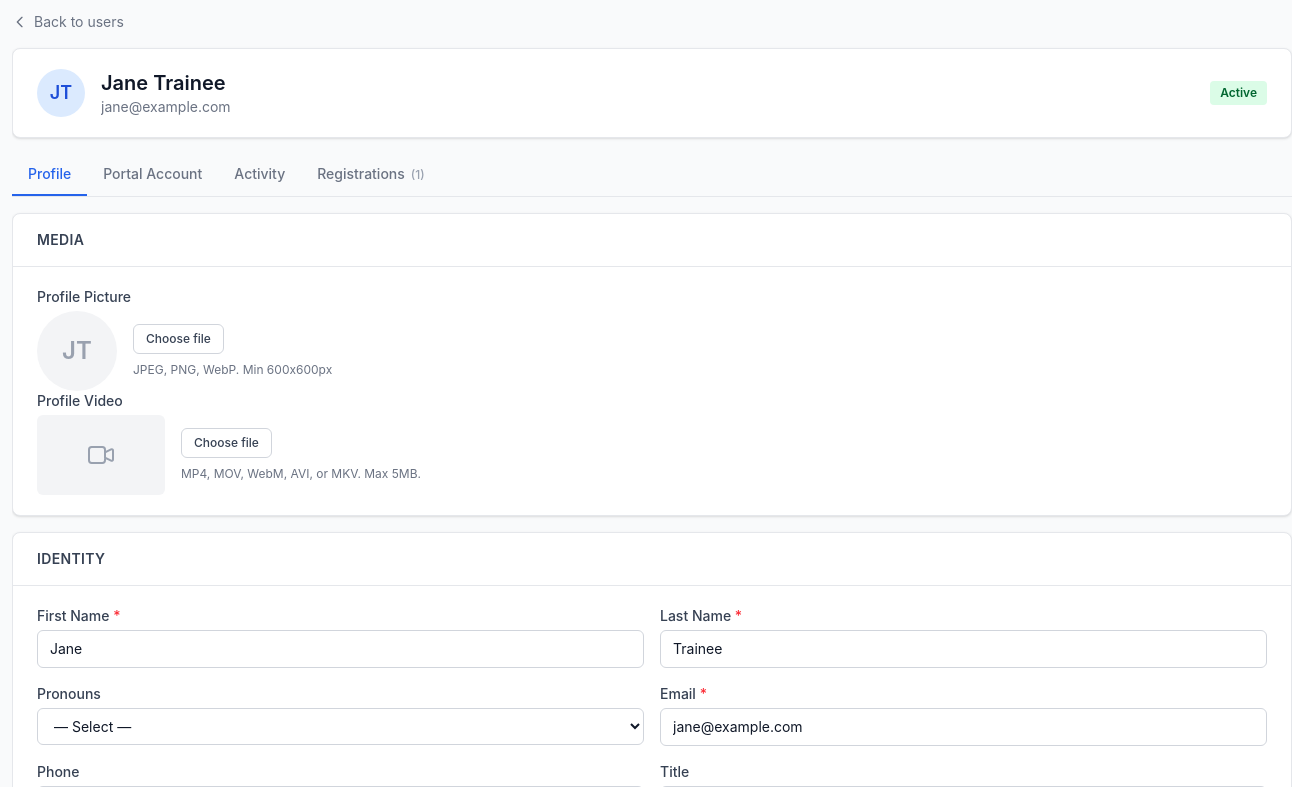
Test: Trainings UserDetailPanel — 4-tab shell › switches to Registrations tab and lists the registrations
This screenshot has width=1292, height=787.
Expected: the heading "Jane Trainee" is shown, [101,69,231,97]
Click the button "Registrations(1)" at (371, 175), box [301,154,441,196]
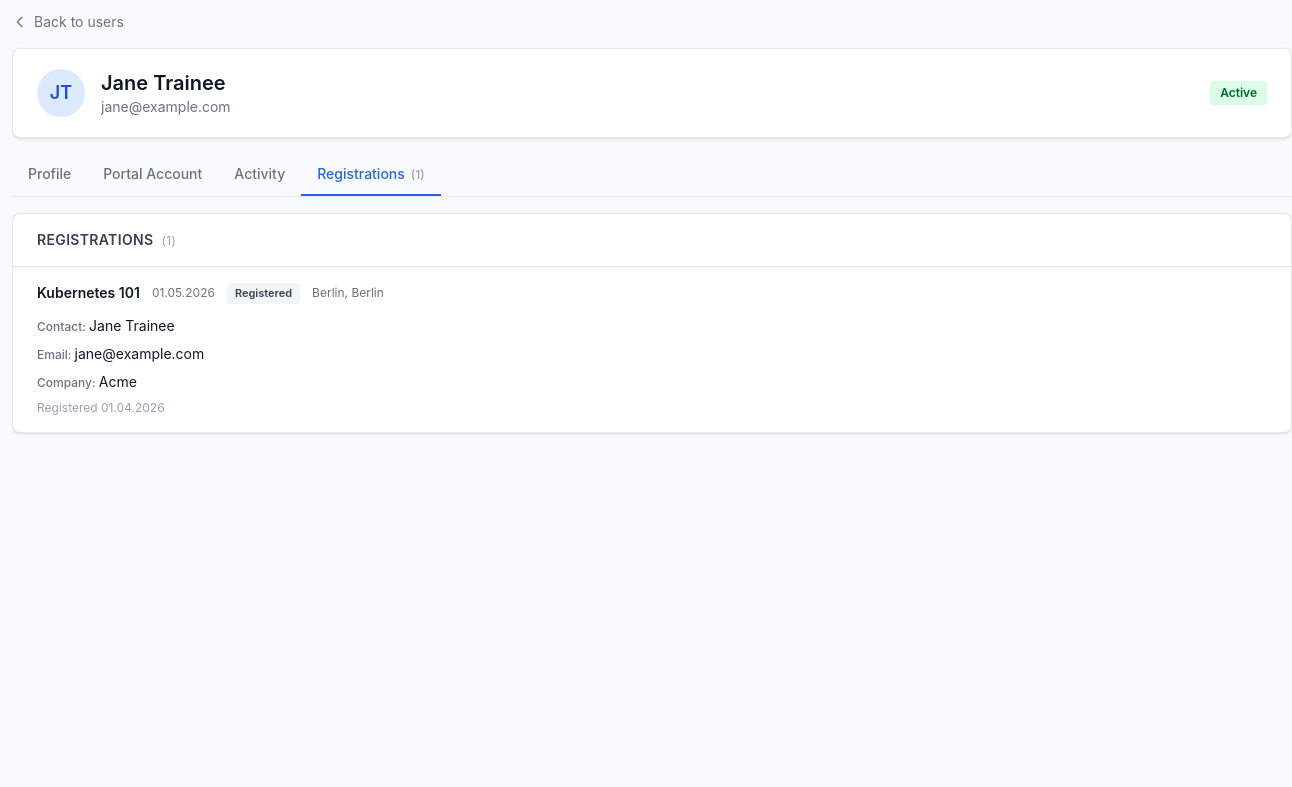
Expected: the heading "Kubernetes 101" is shown, [37,283,140,303]
